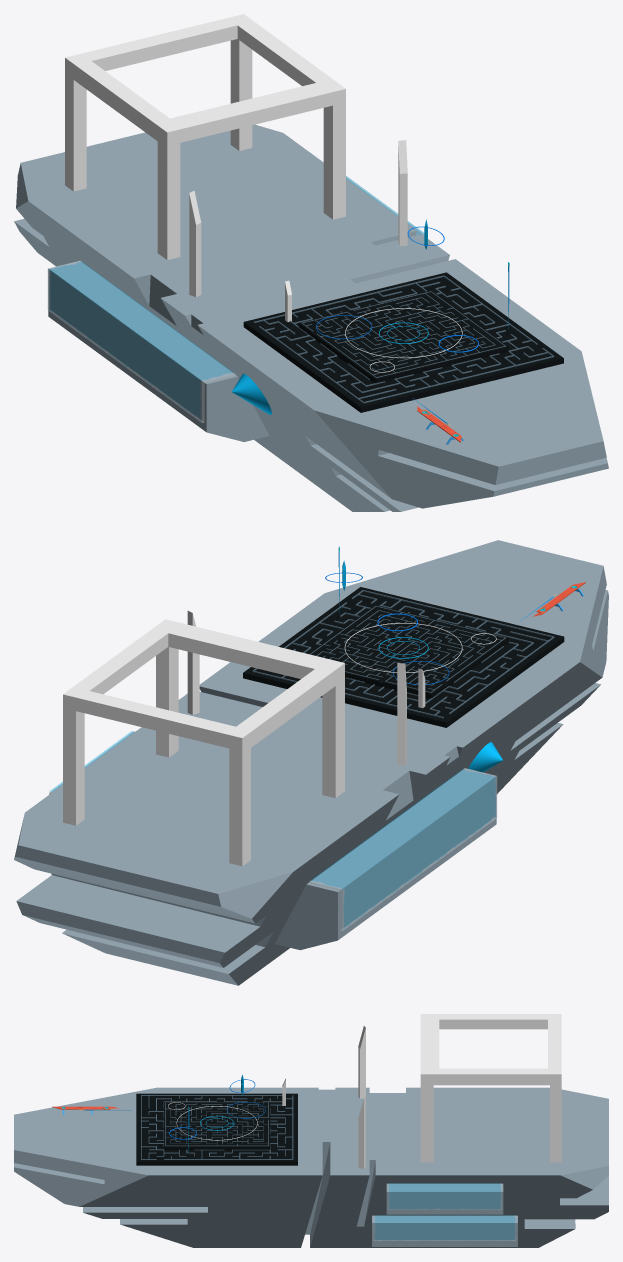
The model's file is Bird Temple.glb.
The picture shows the model from 3 angles, top to bottom: view 1: azimuth 30°, elevation 25°; view 2: azimuth 150°, elevation 25°; view 3: azimuth 270°, elevation 25°; orthographic projection. The views are drawn at different scales.
Parts seen in each view (by area): view 1: Hull, Temple, Altar, Ballroom, Bwindow, Lower maze, Upper maze, Starboard obulisque, Port Obulisque, Hull window; view 2: Hull, Temple, Altar, Ballroom, Bwindow, Lower maze, Upper maze, Starboard obulisque, Port Obulisque, Hull window; view 3: Hull, Altar, Temple, Lower lounge, Upper Lounge, Llwindow, Ulwindow, Upper maze, Lower maze, Starboard obulisque, Port Obulisque.
Part boxes in pixels (bbox=[...]): Hull: bbox=[14, 124, 608, 511]; Temple: bbox=[65, 14, 345, 259]; Altar: bbox=[243, 272, 563, 412]; Ballroom: bbox=[48, 261, 269, 441]; Bwindow: bbox=[48, 261, 235, 422]; Lower maze: bbox=[253, 275, 554, 403]; Upper maze: bbox=[301, 291, 505, 377]; Starboard obulisque: bbox=[189, 190, 201, 296]; Port Obulisque: bbox=[398, 140, 407, 246]; Hull window: bbox=[232, 373, 271, 414]; Hull: bbox=[14, 540, 608, 985]; Temple: bbox=[63, 619, 344, 866]; Altar: bbox=[243, 587, 564, 727]; Ballroom: bbox=[275, 768, 496, 950]; Bwindow: bbox=[309, 768, 496, 930]; Lower maze: bbox=[252, 590, 554, 718]; Upper maze: bbox=[310, 606, 505, 692]; Starboard obulisque: bbox=[397, 663, 406, 765]; Port Obulisque: bbox=[187, 611, 199, 714]; Hull window: bbox=[468, 742, 502, 772]; Hull: bbox=[14, 1087, 608, 1247]; Altar: bbox=[136, 1093, 297, 1165]; Temple: bbox=[420, 1014, 561, 1162]; Lower lounge: bbox=[372, 1215, 517, 1246]; Upper Lounge: bbox=[386, 1183, 503, 1214]; Llwindow: bbox=[374, 1215, 515, 1240]; Ulwindow: bbox=[388, 1183, 501, 1209]; Upper maze: bbox=[165, 1102, 268, 1146]; Lower maze: bbox=[141, 1095, 293, 1159]; Starboard obulisque: bbox=[358, 1026, 365, 1098]; Port Obulisque: bbox=[358, 1096, 365, 1168].
Size of the model in its own units: 89.56 by 76.78 by 227.
